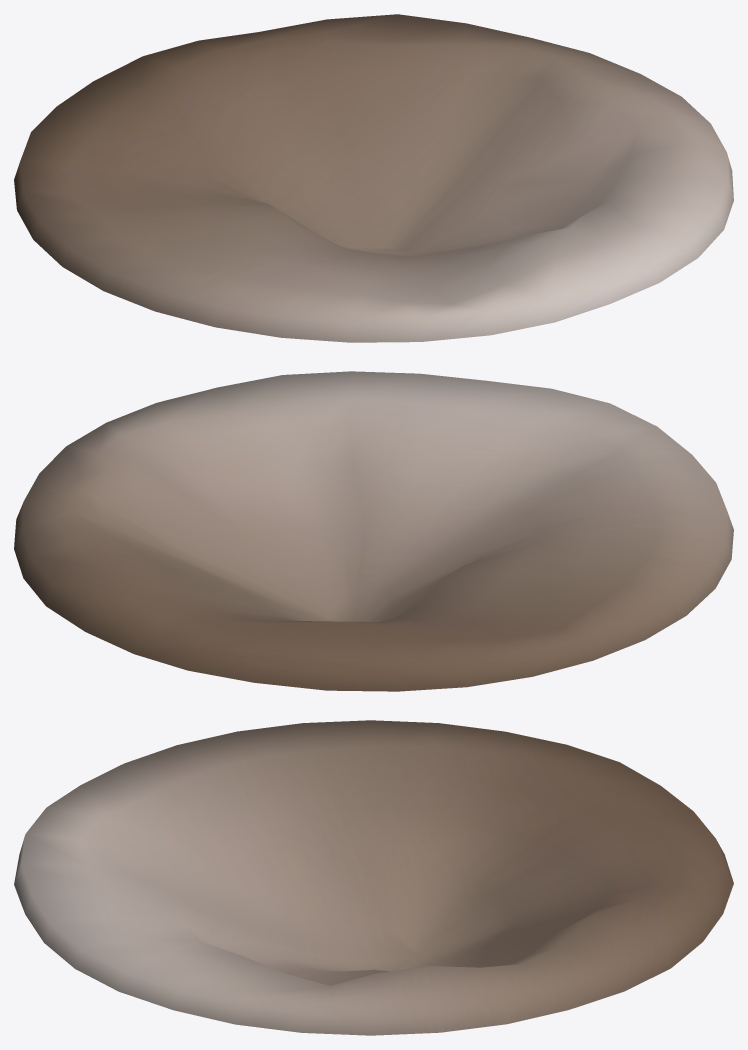
File: Ground_lake.fbx
3 views of the same model, one above another, from view 1: azimuth 30°, elevation 25°; view 2: azimuth 150°, elevation 25°; view 3: azimuth 270°, elevation 25° (orthographic).
Parts seen in each view (by area): view 1: Ground; view 2: Ground; view 3: Ground.
Boxes of the visible parts, <box> form: Ground: <box>14,14,733,342</box>; Ground: <box>14,371,733,691</box>; Ground: <box>14,720,733,1035</box>.
Bounding box in the file's own units: 329 × 55.88 × 333.
Materials: 1 (1 with a texture image).
